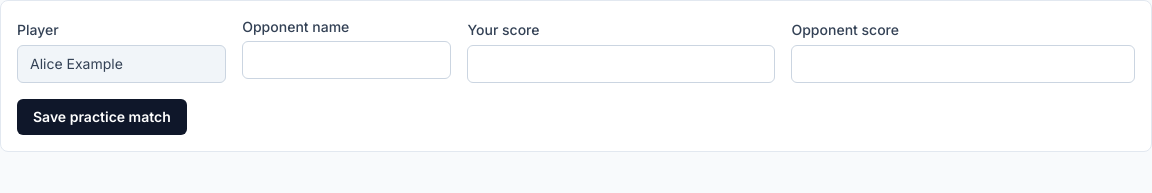
Test: PracticeMatchForm › prevents selecting the current player as the opponent
Type "Alice" into the field labelled "Opponent name" at {"x": 347, "y": 60}, box [242,41,452,79]
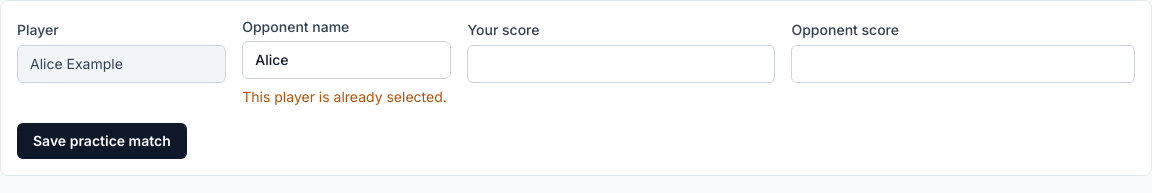
expect the text "This player is already selected." is shown: met, box [242,87,452,107]
